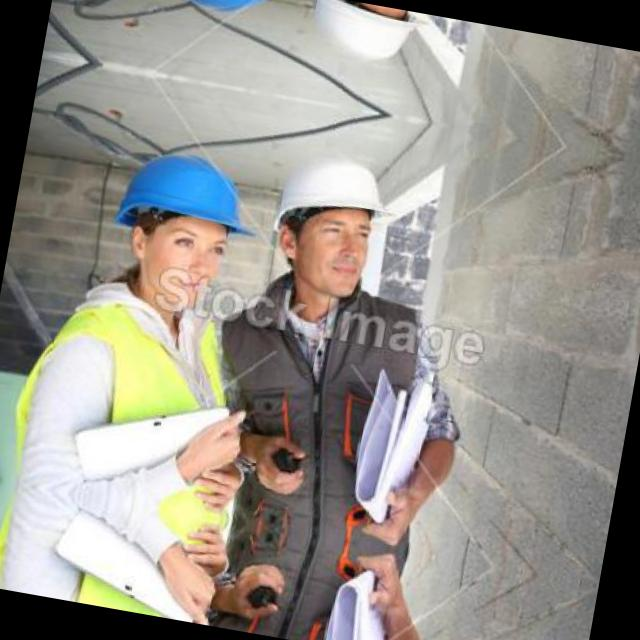helmet: (89, 120, 260, 312), (249, 130, 407, 316), (289, 0, 432, 87), (135, 0, 287, 44)
